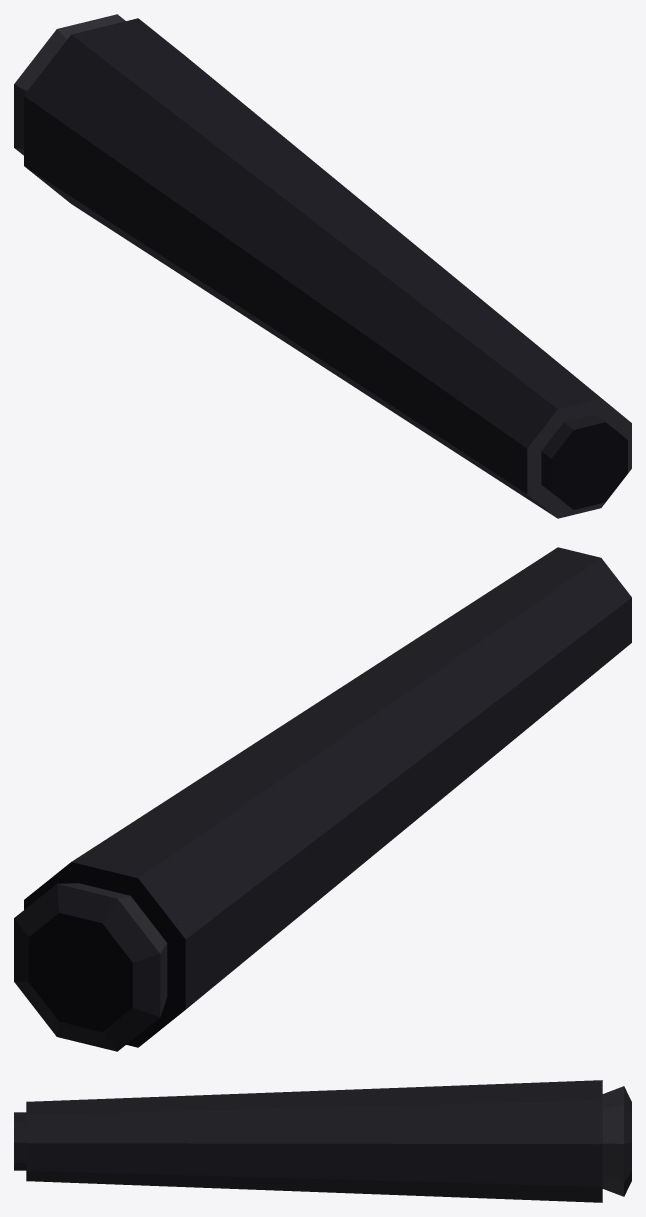
Rendered from MW1_Handguard_5.56mm_16in_01.fbx.
3 renders of one model, top to bottom at view 1: azimuth 30°, elevation 25°; view 2: azimuth 150°, elevation 25°; view 3: azimuth 270°, elevation 25°, orthographic. The views are drawn at different scales.
Parts seen in each view (by area): view 1: Handguard_5.56mm_16in_01; view 2: Handguard_5.56mm_16in_01; view 3: Handguard_5.56mm_16in_01.
Part boxes in pixels (x1,y1,x2,y2): Handguard_5.56mm_16in_01: [14, 14, 631, 518]; Handguard_5.56mm_16in_01: [14, 547, 631, 1051]; Handguard_5.56mm_16in_01: [14, 1080, 631, 1202].
Bounding box in the file's own units: 5.84 × 5.84 × 31.8.
